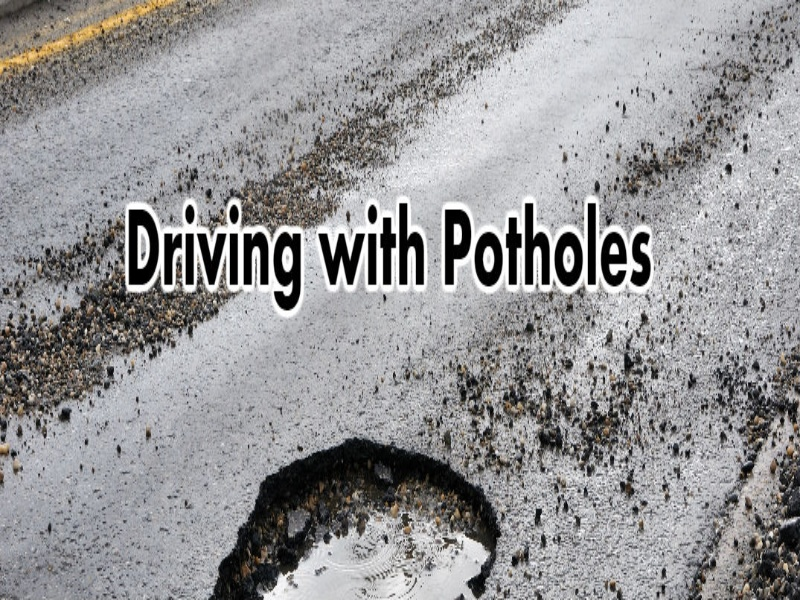pothole: (204, 436, 502, 600)
